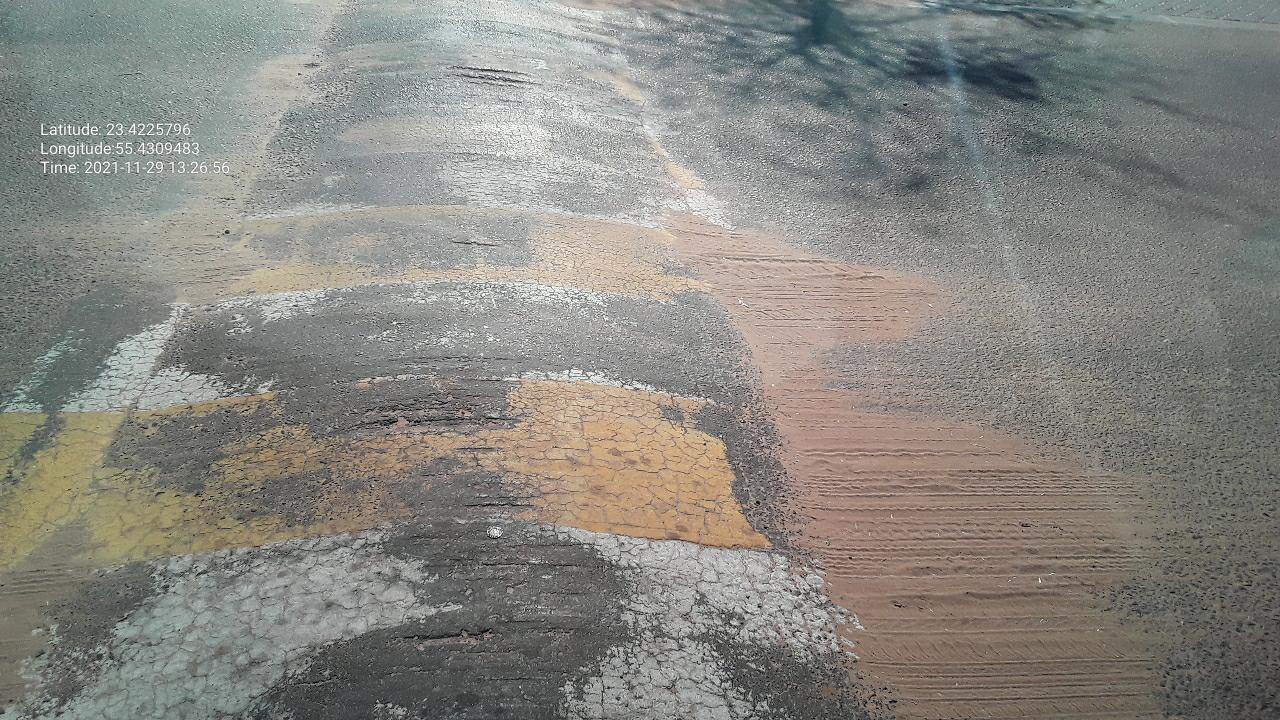Alligator: (448, 252, 832, 468)
